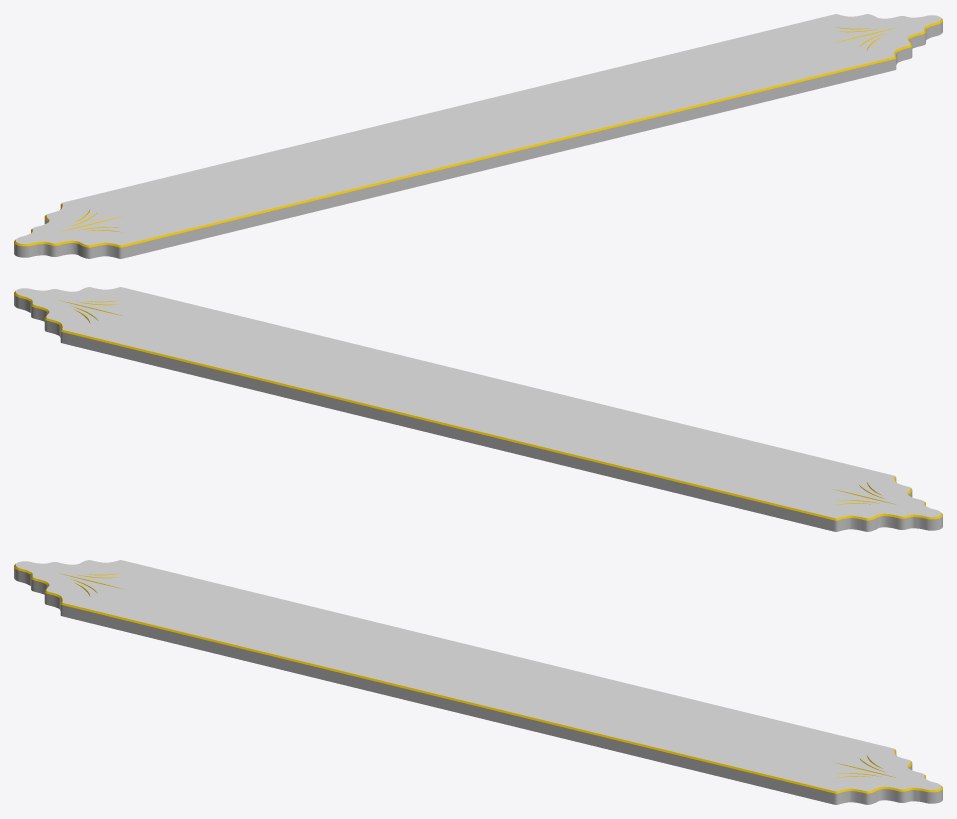
The model's file is The Shangri-La.glb.
3 renders of one model, top to bottom at view 1: azimuth 30°, elevation 25°; view 2: azimuth 150°, elevation 25°; view 3: azimuth 330°, elevation 25°, orthographic.
Visible parts, largest first — view 1: 10, BORDERS_curve_.024; view 2: 10, BORDERS_curve_.024; view 3: 10, BORDERS_curve_.024.
Part boxes in pixels (<box>): 10: <box>14,14,942,258</box>; BORDERS_curve_.024: <box>14,18,942,247</box>; 10: <box>14,287,942,531</box>; BORDERS_curve_.024: <box>14,291,942,520</box>; 10: <box>14,560,942,804</box>; BORDERS_curve_.024: <box>14,564,942,793</box>.
Size of the model in its own units: 39.96 by 0.5281 by 4.5.
